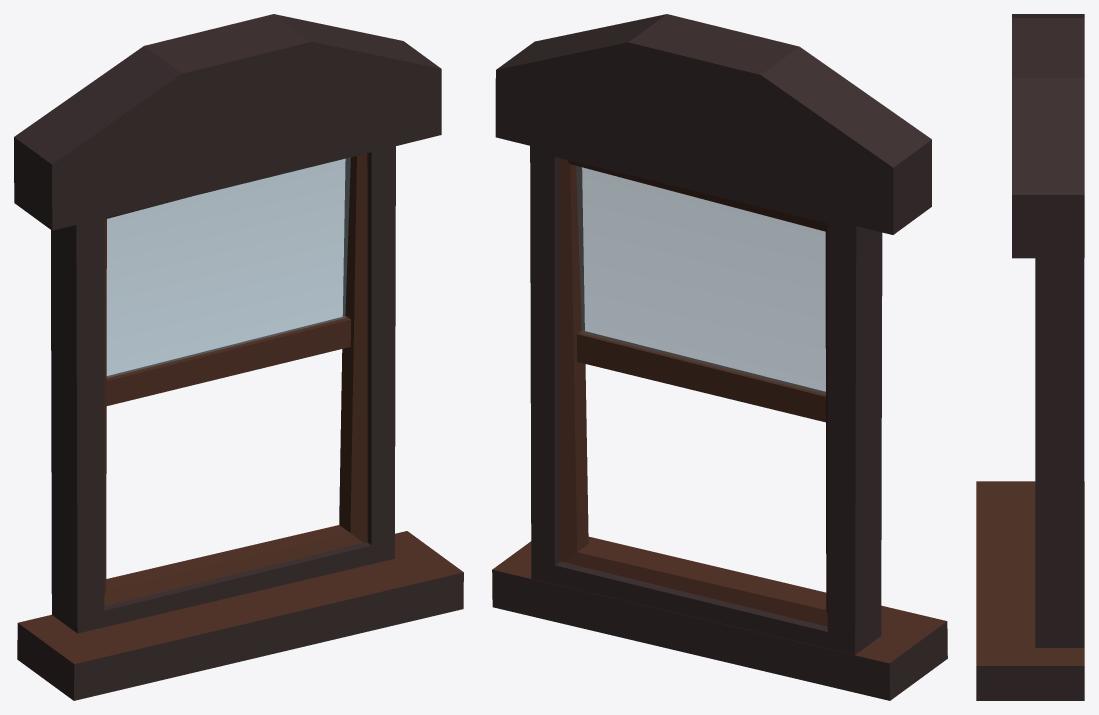
The model's file is Window 1x2 V4 Open.glb.
3 views of the same model, side by side, from view 1: azimuth 30°, elevation 25°; view 2: azimuth 150°, elevation 25°; view 3: azimuth 270°, elevation 25° (orthographic). The views are drawn at different scales.
Visible parts, largest first — view 1: Window 1x2 V4 Open; view 2: Window 1x2 V4 Open; view 3: Window 1x2 V4 Open.
Part boxes in pixels (<box>): Window 1x2 V4 Open: <box>14,14,463,700</box>; Window 1x2 V4 Open: <box>492,14,947,700</box>; Window 1x2 V4 Open: <box>976,14,1084,700</box>.
Bounding box in the file's own units: 1.42 × 2.02 × 0.3537.
2 materials, 2 textured.
